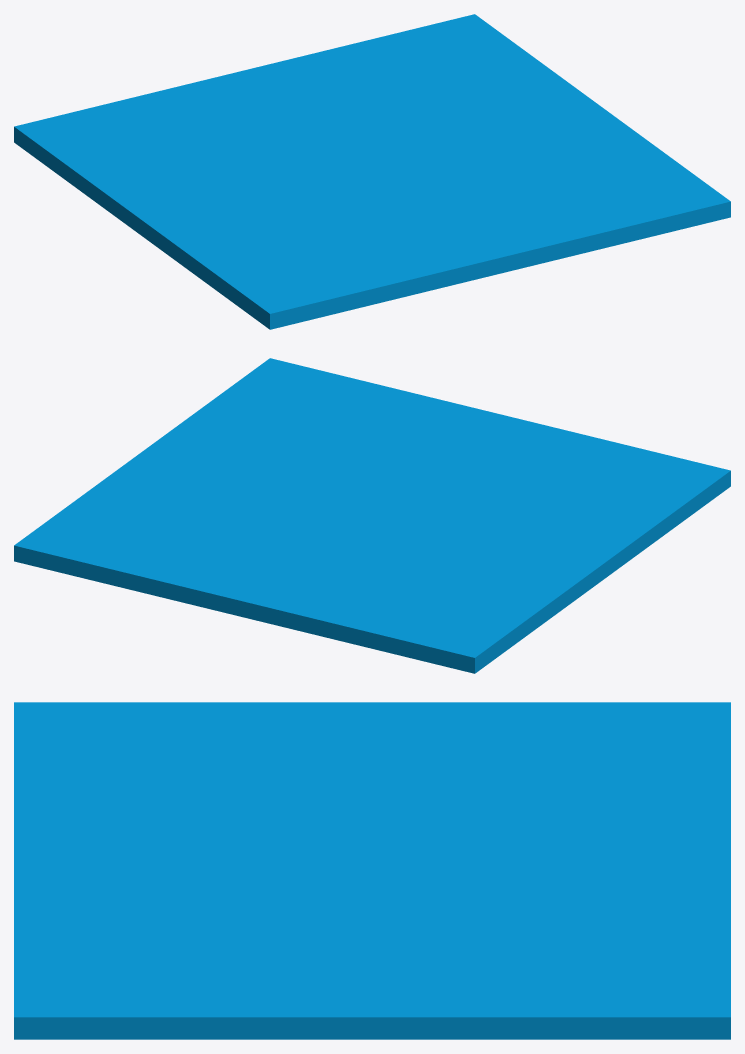
File: test-zone.glb
3 renders of one model, top to bottom at view 1: azimuth 30°, elevation 25°; view 2: azimuth 150°, elevation 25°; view 3: azimuth 270°, elevation 25°, orthographic. The views are drawn at different scales.
Visible parts, largest first — view 1: Cube; view 2: Cube; view 3: Cube.
Boxes of the visible parts, x1,y1,x2,y2 form: Cube: (14,14,730,329); Cube: (14,358,730,673); Cube: (14,702,730,1039).
Bounding box in the file's own units: 146 × 4.82 × 141.
Materials: 1 (1 with a texture image).
